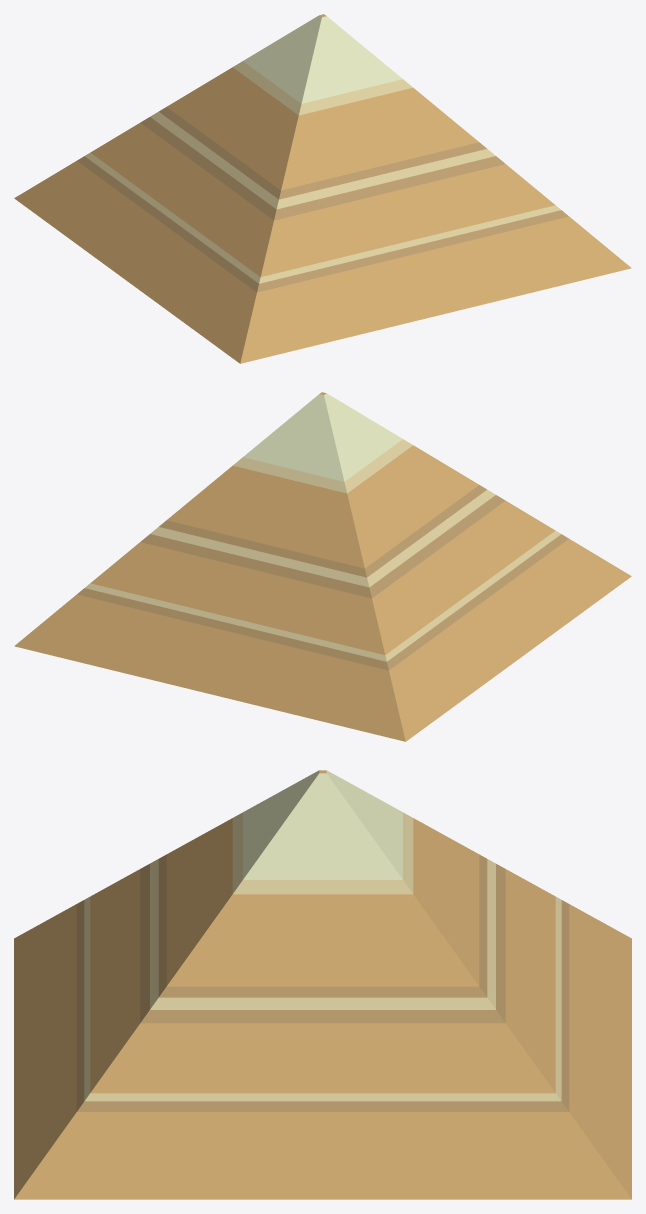
The picture shows the model from 3 angles, top to bottom: view 1: azimuth 30°, elevation 25°; view 2: azimuth 150°, elevation 25°; view 3: azimuth 270°, elevation 25°; orthographic projection. The views are drawn at different scales.
Visible parts, largest first — view 1: Cube.004; view 2: Cube.004; view 3: Cube.004.
Part boxes in pixels (box(x1,y1,x2,y2)): Cube.004: box(14, 14, 631, 363); Cube.004: box(14, 392, 631, 741); Cube.004: box(14, 770, 631, 1199).
Bounding box in the file's own units: 4258 × 2260 × 4258.
